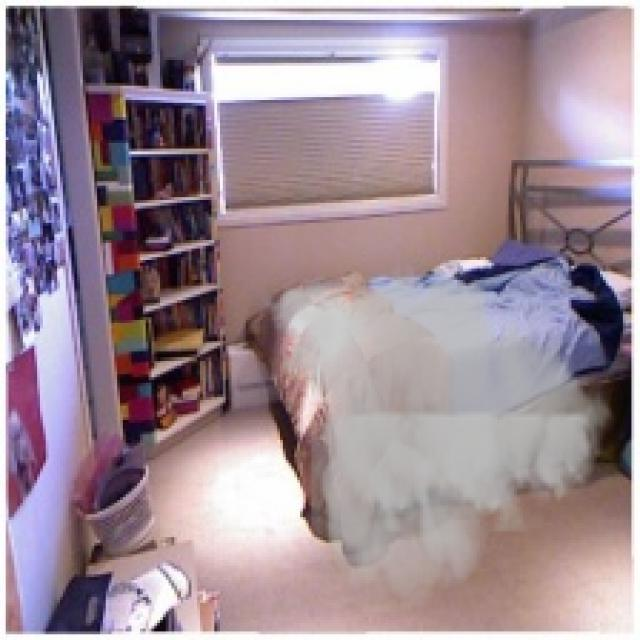Smoke: (254, 259, 623, 612)
